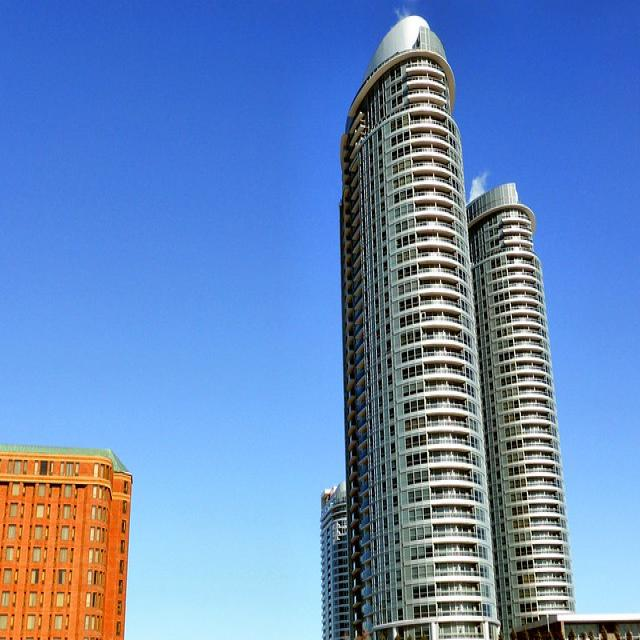Normal_building: (337, 10, 502, 640), (460, 178, 579, 638)
